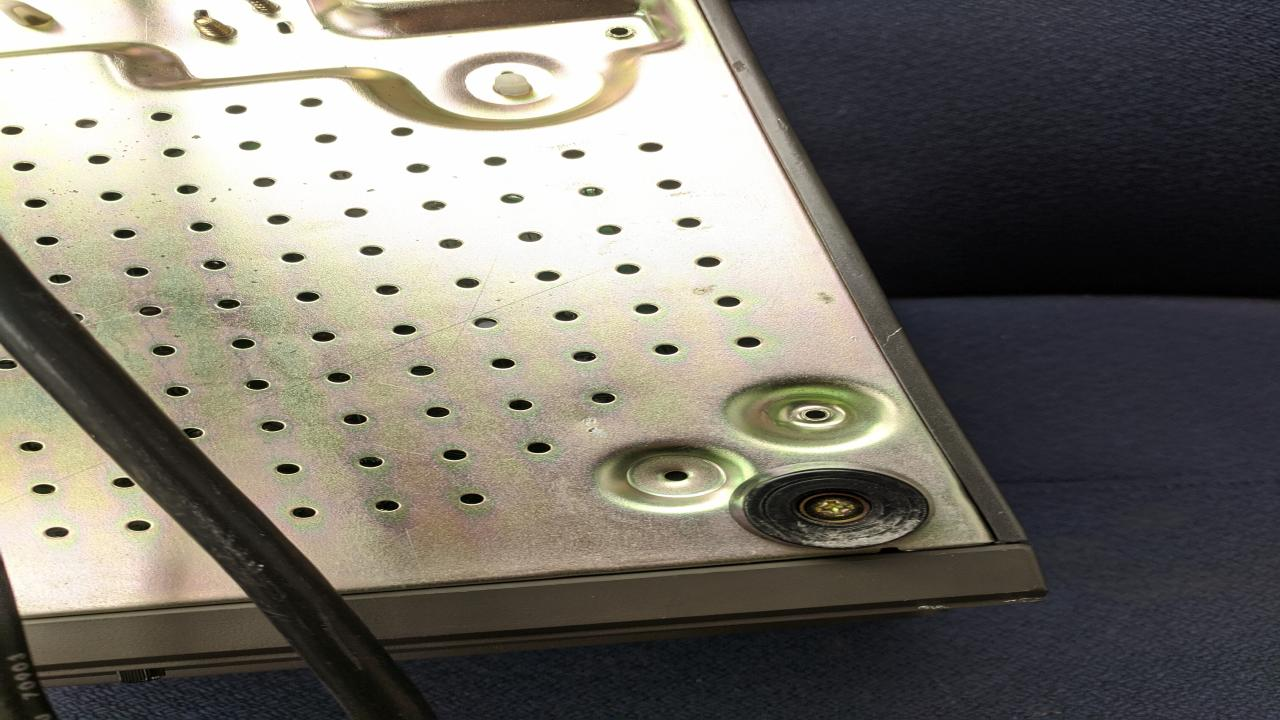CRS: (794, 493, 864, 520)
